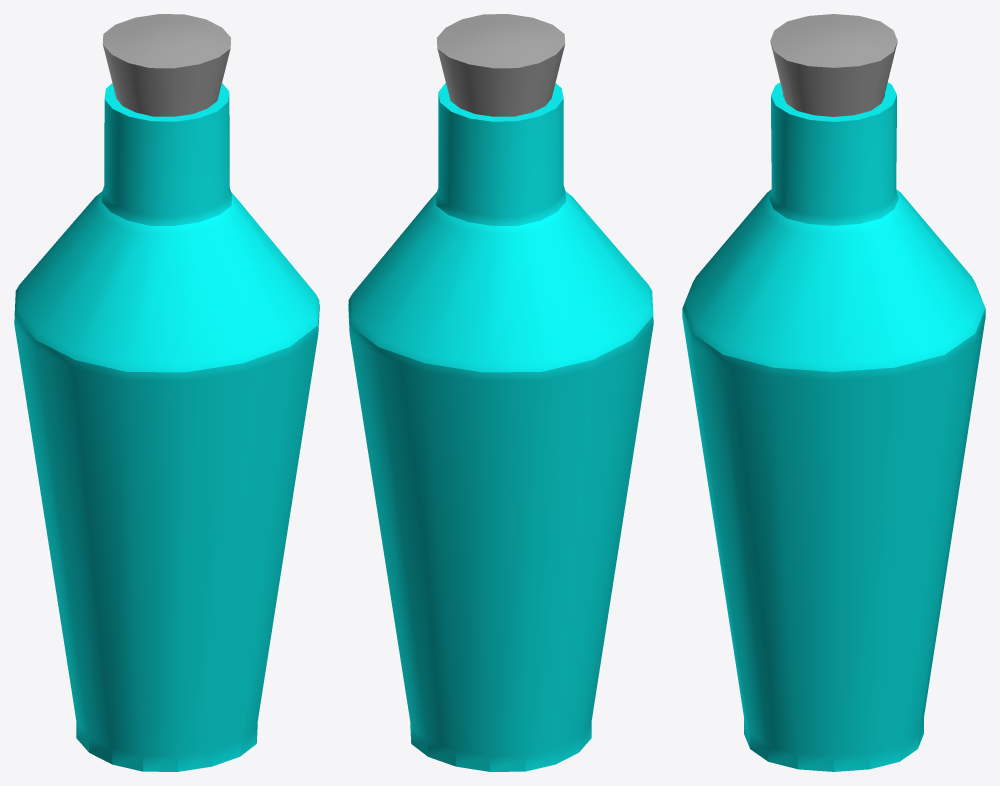
The model's file is Potion4.fbx.
3 renders of one model, left to right at view 1: azimuth 30°, elevation 25°; view 2: azimuth 150°, elevation 25°; view 3: azimuth 270°, elevation 25°, orthographic.
Parts seen in each view (by area): view 1: potionbottle4, cork4; view 2: potionbottle4, cork4; view 3: potionbottle4, cork4.
Part boxes in pixels (box(x1,y1,x2,y2)): potionbottle4: box(14, 83, 319, 771); cork4: box(102, 14, 230, 116); potionbottle4: box(348, 82, 653, 771); cork4: box(437, 14, 565, 116); potionbottle4: box(682, 82, 985, 771); cork4: box(770, 14, 897, 116).
Size of the model in its own units: 6.82 by 17.36 by 6.82.
